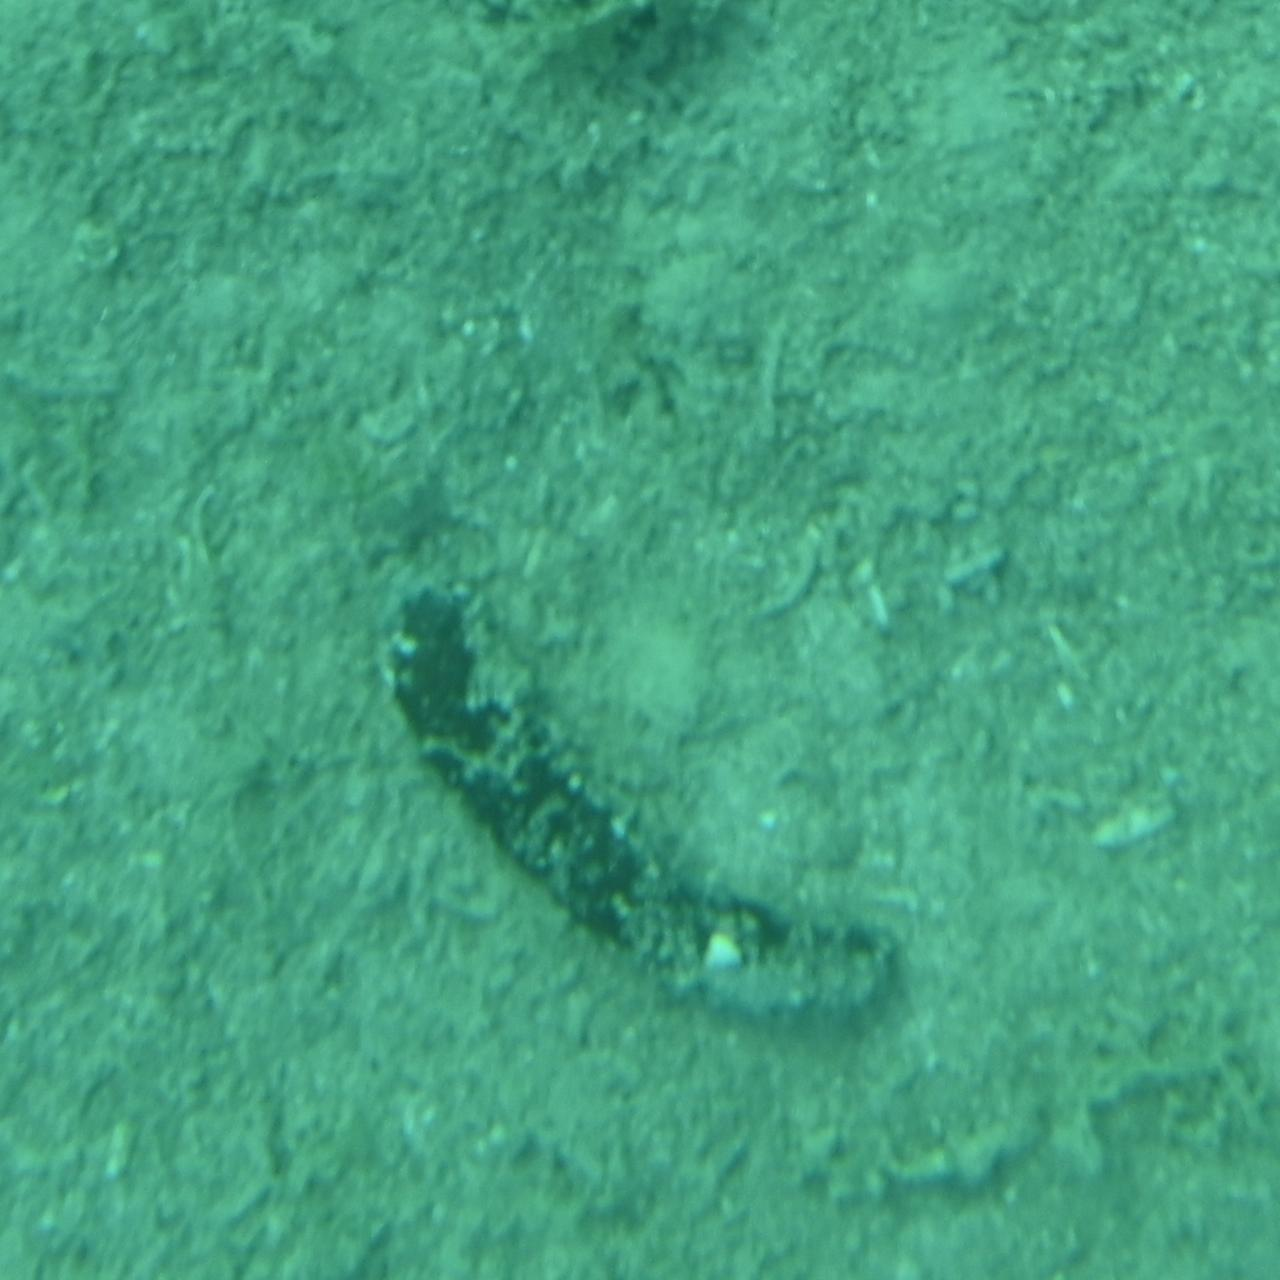Holothuria tubulosa: (375, 577, 905, 1057)
